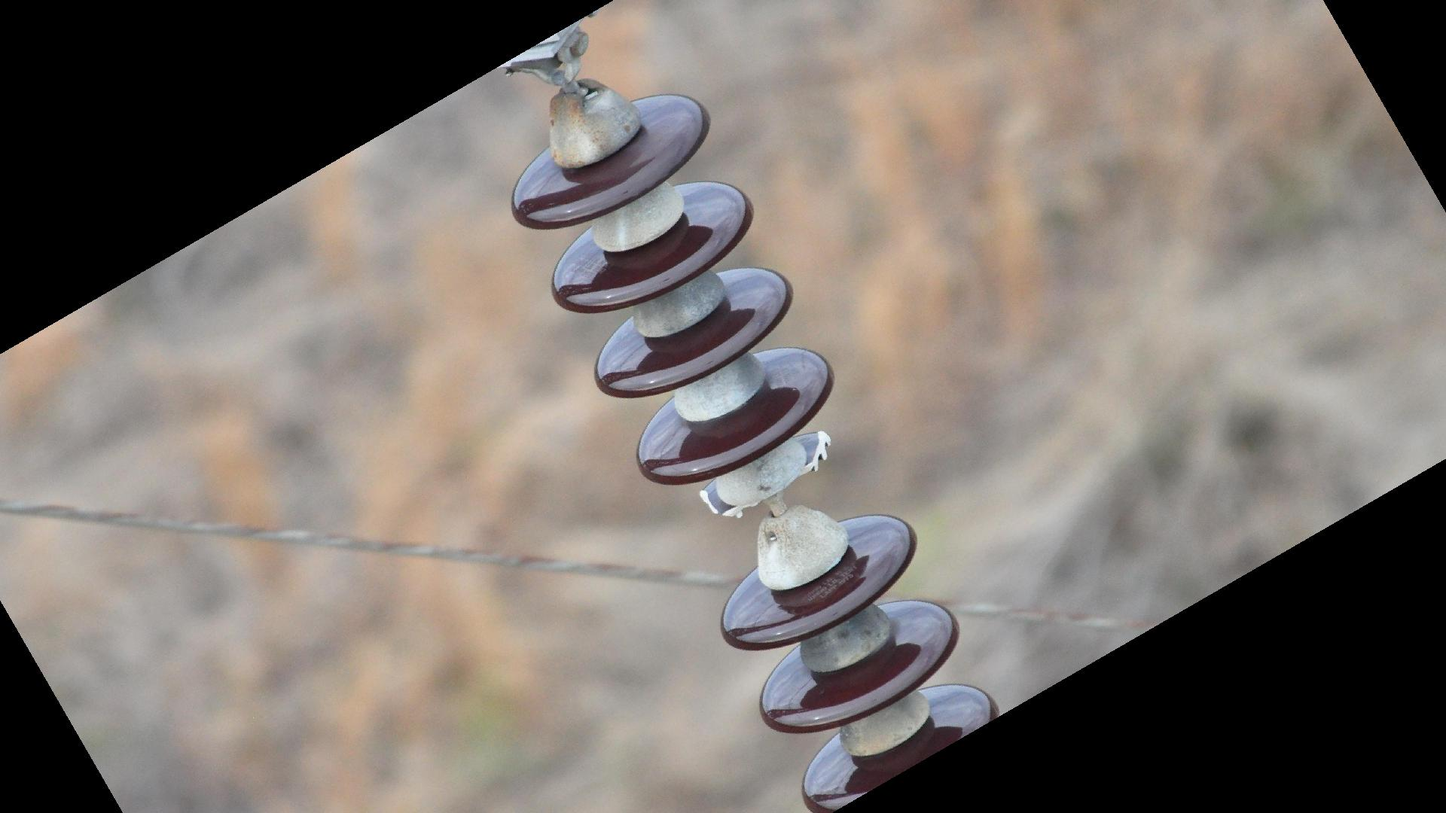insulator: (502, 87, 1006, 813)
insulator_breakage: (688, 428, 840, 519)
